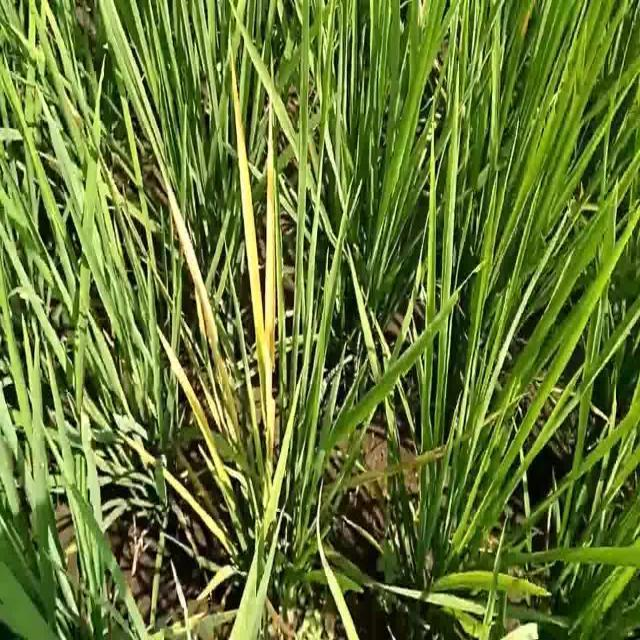Rice Tungro: (149, 126, 221, 366), (227, 49, 265, 357), (154, 320, 226, 478), (264, 69, 278, 360)
